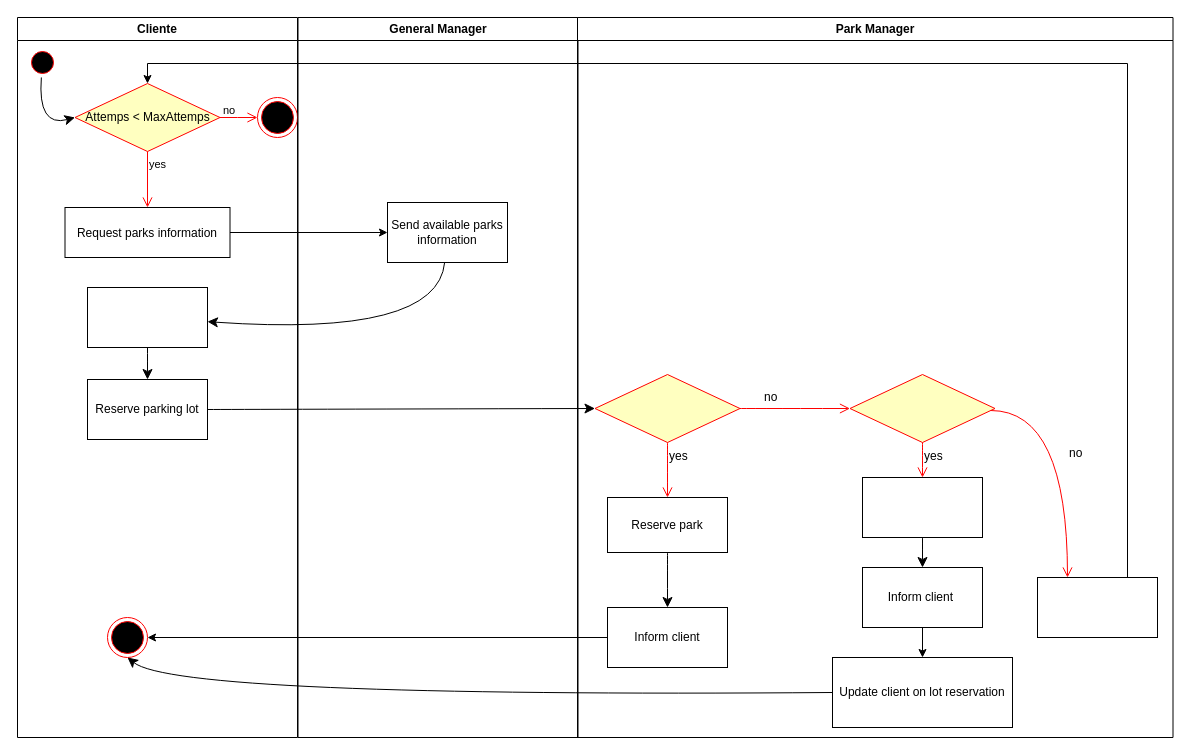
This 1191x755 diagram has some shape labels left out. The centre of each missing label's shape, as x and y in pixels:
"Add client to the waiting list" goes at (922,507).
"Any vacancies?" goes at (667,408).
"Client wants to the join to the waiting list?" goes at (922,408).
"Inform client no available lots" goes at (1097,607).
"Sort parks by preference" goes at (147,317).
